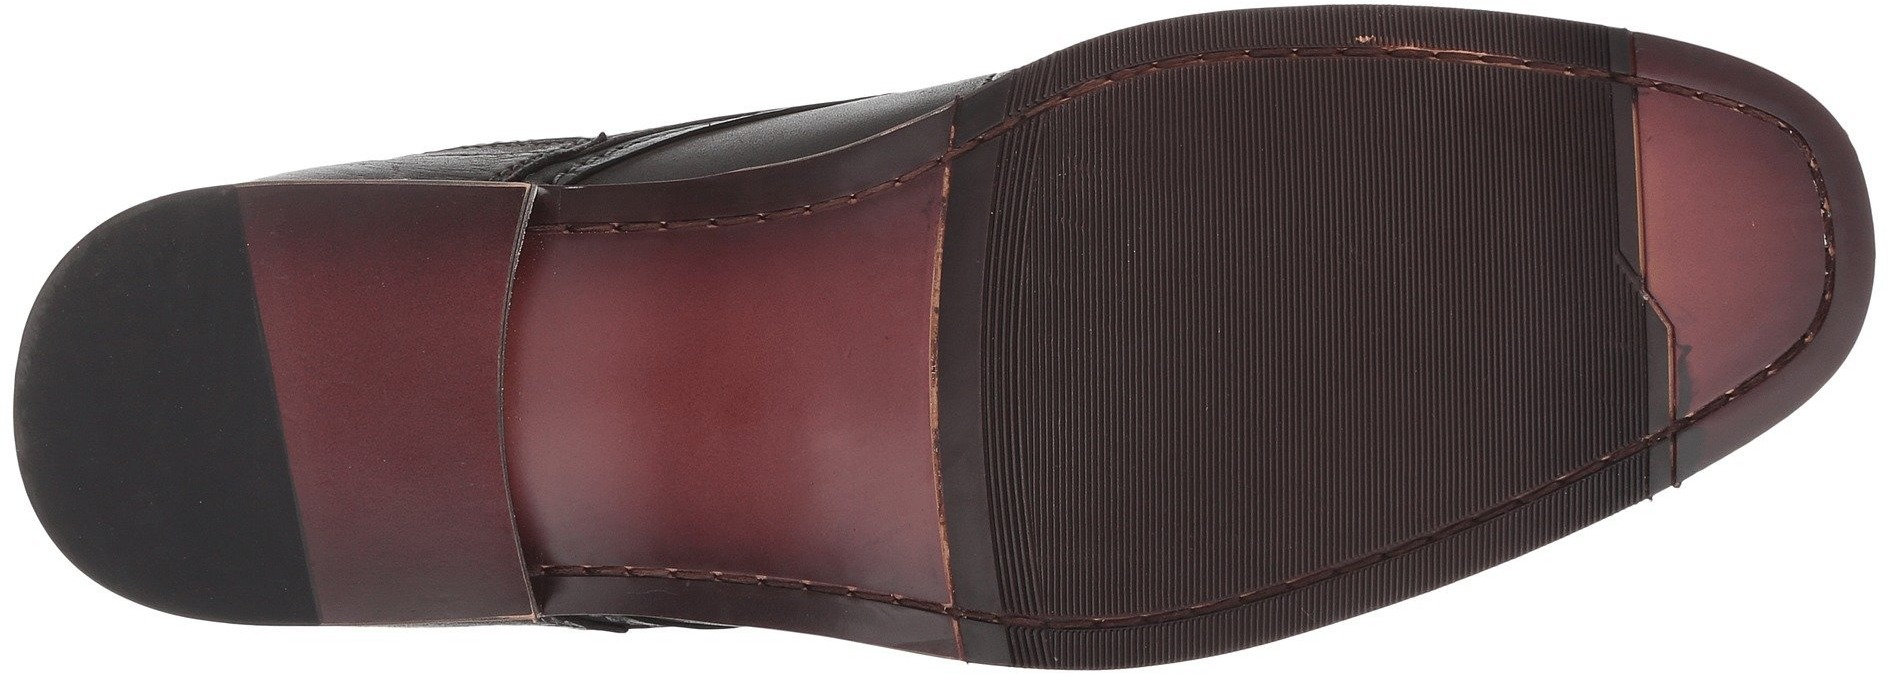line: (1284, 71, 1591, 361), (1008, 128, 1280, 386), (1039, 389, 1278, 642), (1286, 366, 1467, 532)
other: (537, 240, 861, 563), (28, 317, 279, 543), (256, 211, 488, 441), (293, 445, 496, 628), (1636, 134, 1807, 292)
